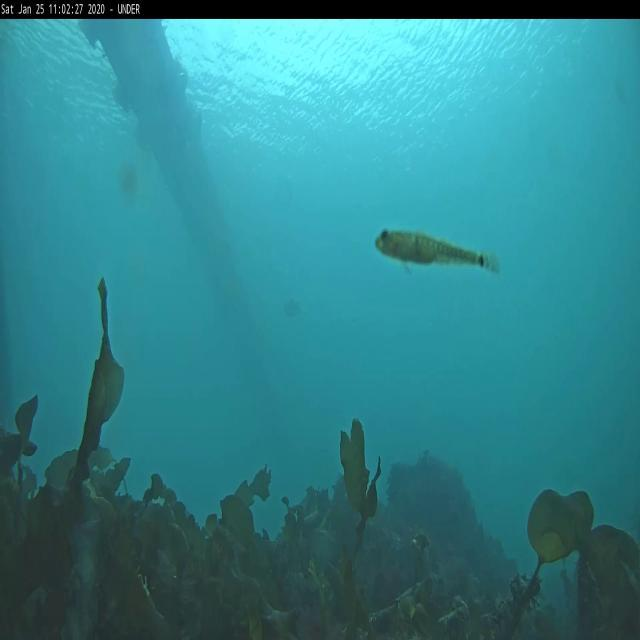fish: (373, 226, 502, 286)
